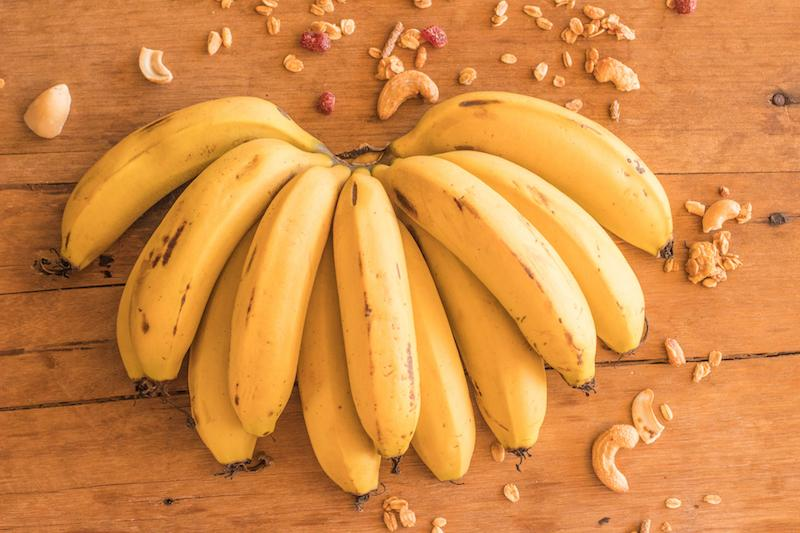chuoi: (129, 137, 647, 493)
